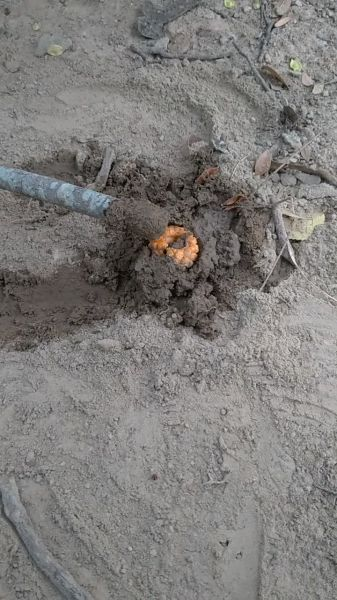eggs: (144, 218, 210, 274)
